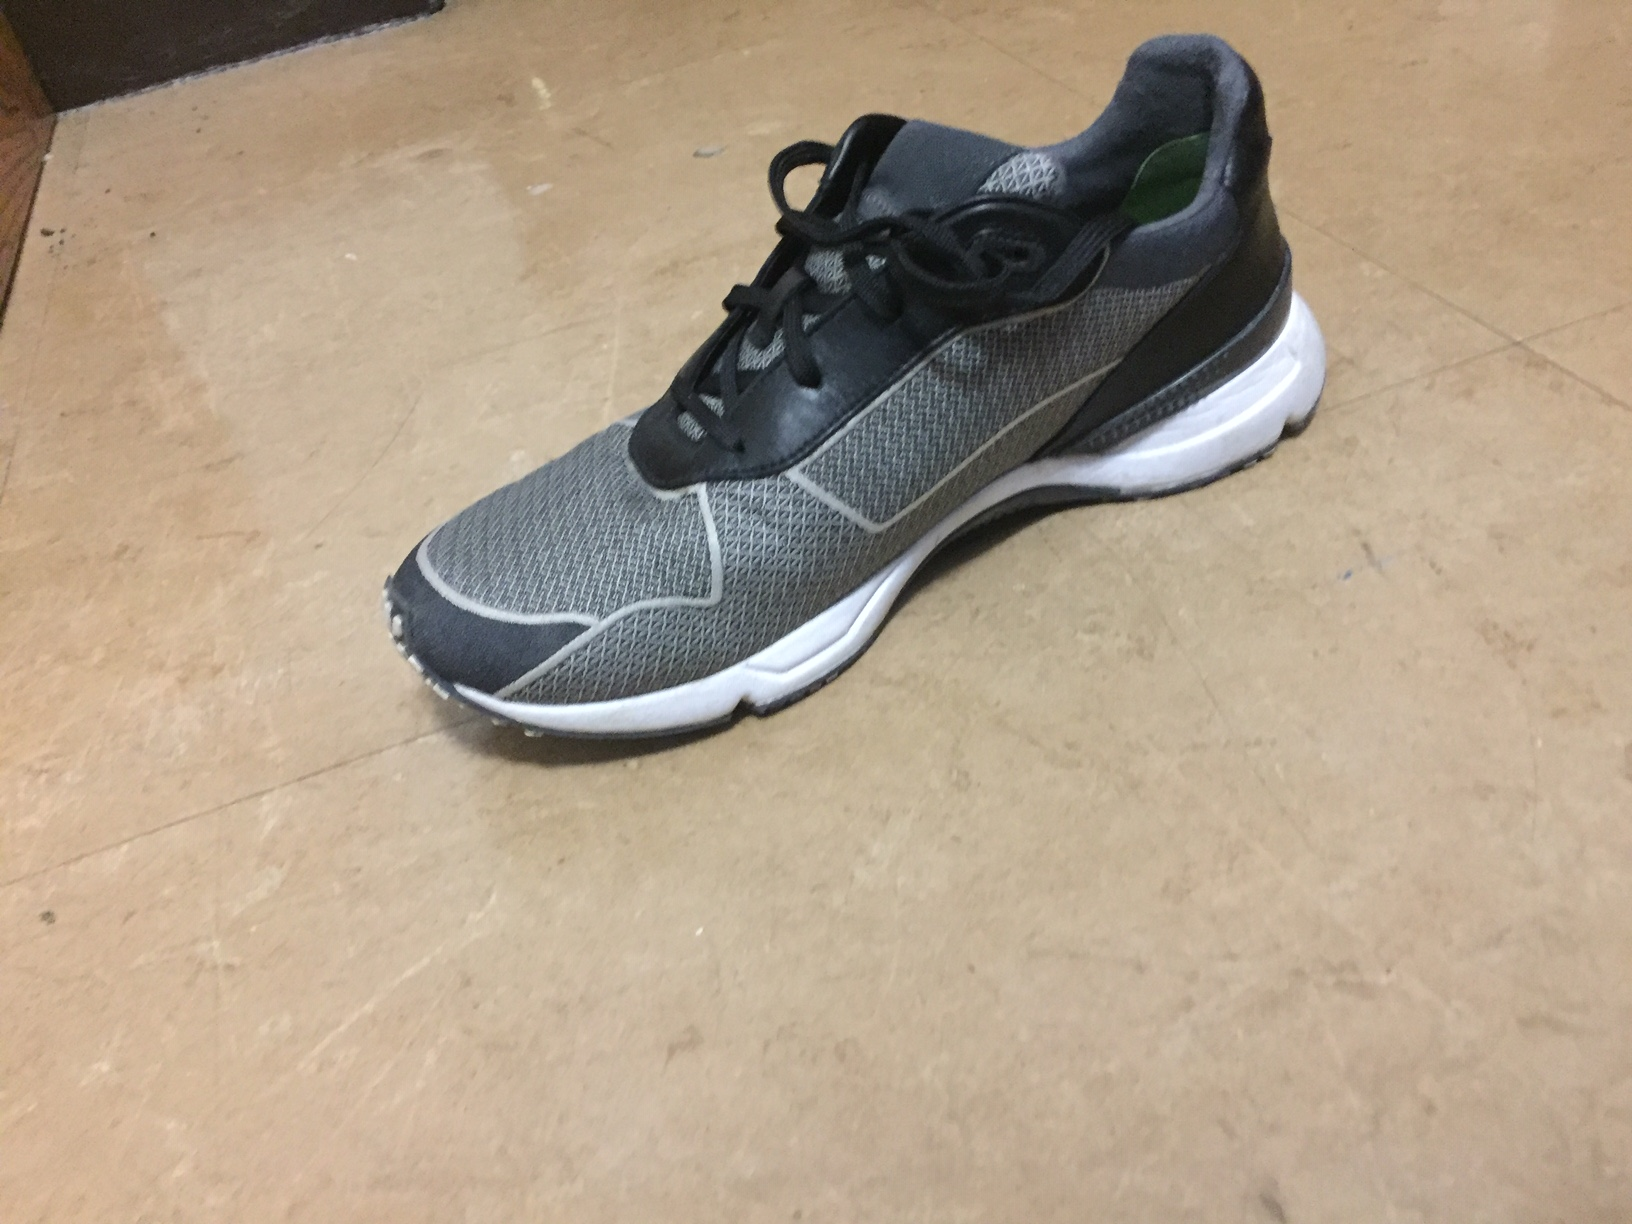car: (373, 60, 1356, 783)
